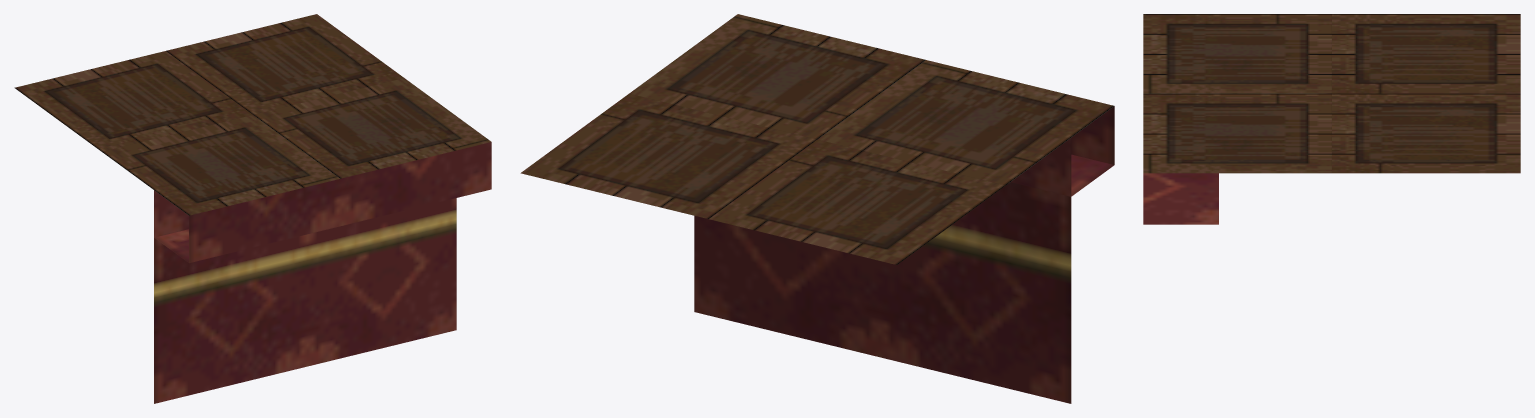
The model's file is platform_edge.fbx.
3 views of the same model, side by side, from view 1: azimuth 30°, elevation 25°; view 2: azimuth 150°, elevation 25°; view 3: azimuth 270°, elevation 25° (orthographic). The views are drawn at different scales.
Visible parts, largest first — view 1: platform_edge; view 2: platform_edge; view 3: platform_edge.
Part boxes in pixels (x1,y1,x2,y2): platform_edge: [14, 14, 491, 403]; platform_edge: [520, 14, 1114, 403]; platform_edge: [1143, 14, 1520, 224].
Bounding box in the file's own units: 2 × 1.35 × 2.
